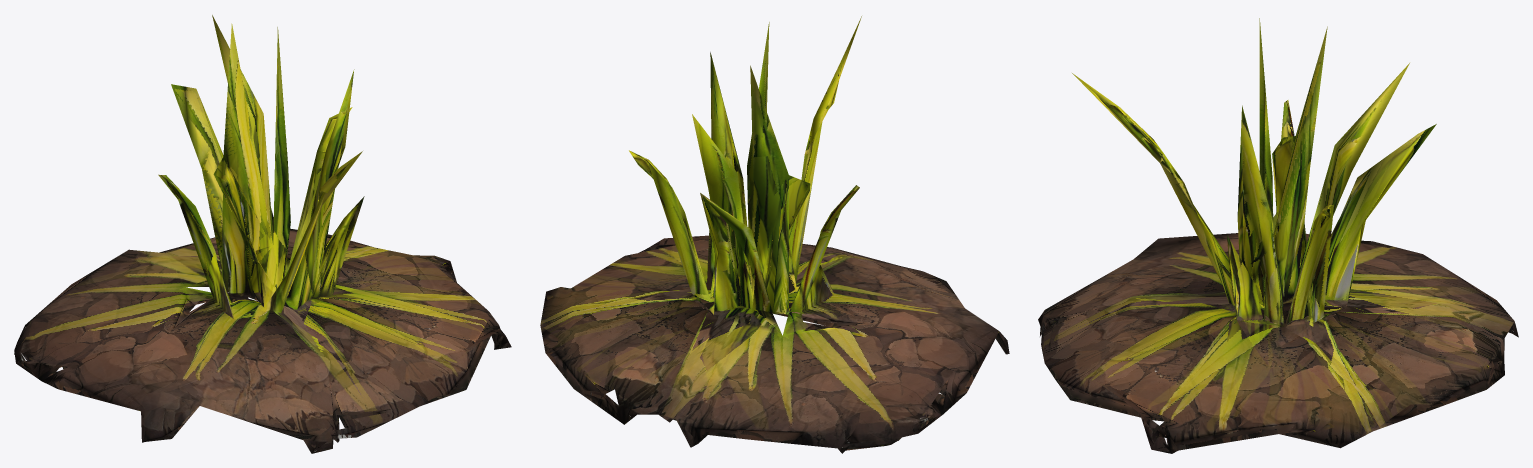
Rendered from Crop_Rice_Sprout.fbx.
The picture shows the model from 3 angles, left to right: view 1: azimuth 30°, elevation 25°; view 2: azimuth 150°, elevation 25°; view 3: azimuth 270°, elevation 25°; orthographic projection. The views are drawn at different scales.
Visible parts, largest first — view 1: texture_mapping; view 2: texture_mapping; view 3: texture_mapping.
Boxes of the visible parts, x1,y1,x2,y2 form: texture_mapping: (14,15,511,453); texture_mapping: (540,16,1009,453); texture_mapping: (1038,18,1518,453).
Bounding box in the file's own units: 0.894 × 0.8706 × 0.7018.
1 material, 1 textured.
